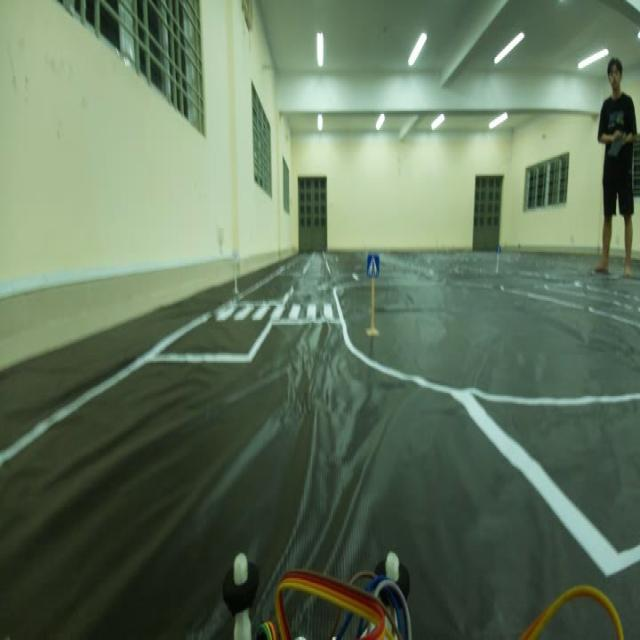crosswalk: (366, 248, 384, 281)
